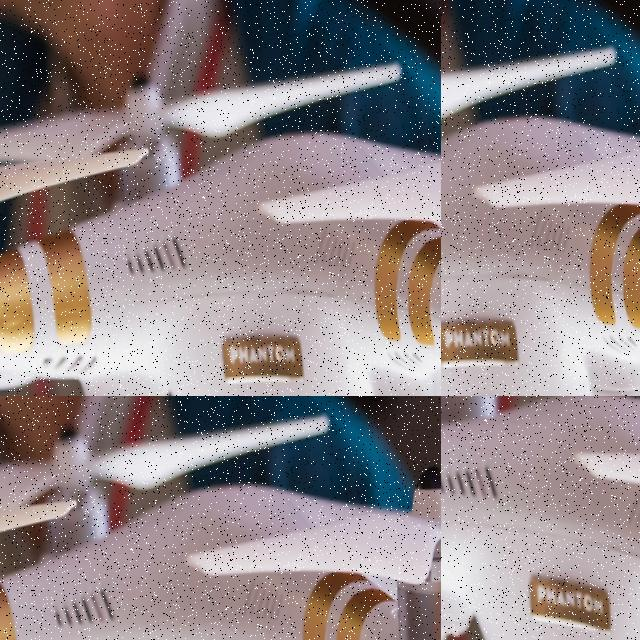drone: (441, 396, 640, 640)
